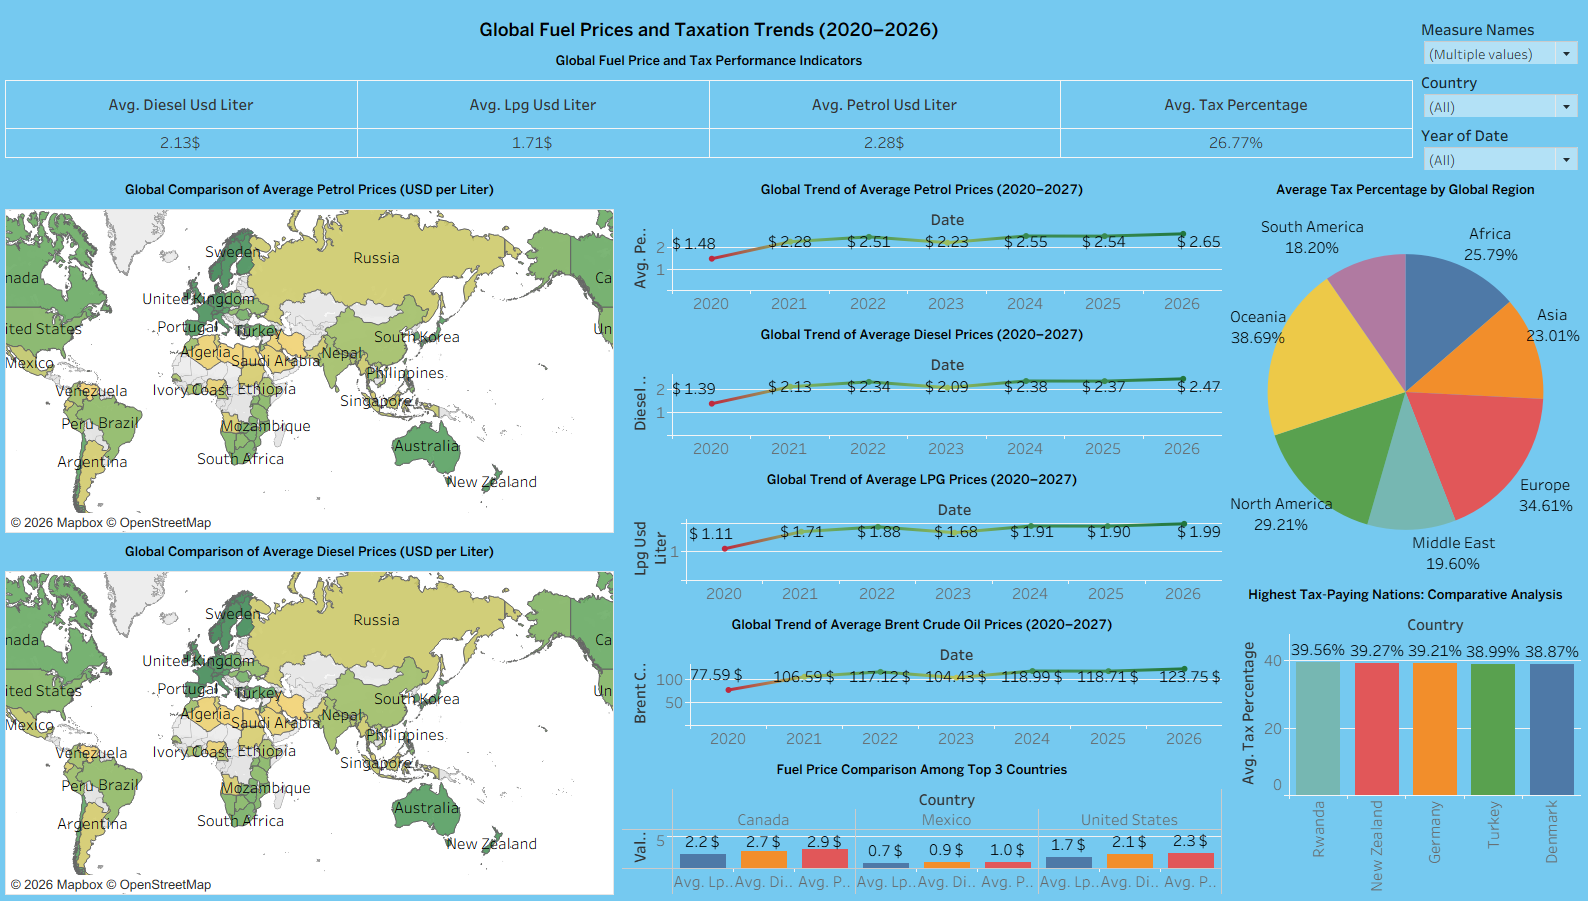

What the dashboard file says about the page in this screenshot:
{"tool":"tableau","page":{"name":"Global Fuel Dashboard","canvas":[1600,900],"ordinal":1},"visuals":[{"type":"text","box":[7.9,7.9,1416.2,30]},{"type":"filter","title":"KPI Indicators","param":"[federated.1v4kxpw04uno6u108y8fu1nb7g7z].[:Measure Names]","box":[1424.1,7.9,168,53]},{"type":"worksheet","title":"KPI Indicators","mark":"Automatic","box":[7.9,37.9,1416.2,117]},{"type":"filter","title":"Petrol Map","param":"[federated.1v4kxpw04uno6u108y8fu1nb7g7z].[none:country:nk]","box":[1424.1,60.9,168,53]},{"type":"filter","title":"Petrol Trend","param":"[federated.1v4kxpw04uno6u108y8fu1nb7g7z].[yr:date:ok]","box":[1424.1,113.9,168,53]},{"type":"worksheet","title":"Petrol Map","mark":"Multipolygon","box":[7.9,166.9,617.3,362.6]},{"type":"worksheet","title":"Petrol Trend","mark":"Line","rows":["petrol_usd_liter"],"cols":["date"],"box":[625.1,166.9,608,145]},{"type":"worksheet","title":"Tax by Region","mark":"Pie","box":[1233.1,166.9,359,405]},{"type":"worksheet","title":"Diesel Trend","mark":"Line","rows":["diesel_usd_liter"],"cols":["date"],"box":[625.1,311.9,608,145]},{"type":"worksheet","title":"LPG Trend","mark":"Line","rows":["lpg_usd_liter"],"cols":["date"],"box":[625.1,457,608,145]},{"type":"worksheet","title":"Diesel Map","mark":"Multipolygon","box":[7.9,529.5,617.3,362.6]},{"type":"worksheet","title":"Top 5 Tax Nations","mark":"Bar","rows":["tax_percentage"],"cols":["country"],"box":[1233.1,571.9,359,320.2]},{"type":"worksheet","title":"Brent Crude Trend","mark":"Line","rows":["brent_crude_usd"],"cols":["date"],"box":[625.1,602,608,145]},{"type":"worksheet","title":"Top 3 Fuel Comparison","mark":"Bar","cols":["country"],"box":[625.1,747.1,608,145]}]}

Visuals, with their boxes in screenshot pixels (x1, y1, x2, y2), scaled from the page's 1600x900 canvas onto the 1588x901 screenshot:
text: box=[8, 8, 1413, 38]
"KPI Indicators" filter: box=[1413, 8, 1580, 61]
"KPI Indicators" worksheet: box=[8, 38, 1413, 155]
"Petrol Map" filter: box=[1413, 61, 1580, 114]
"Petrol Trend" filter: box=[1413, 114, 1580, 167]
"Petrol Map" worksheet (Multipolygon marks): box=[8, 167, 621, 530]
"Petrol Trend" worksheet (Line marks): box=[620, 167, 1224, 312]
"Tax by Region" worksheet (Pie marks): box=[1224, 167, 1580, 573]
"Diesel Trend" worksheet (Line marks): box=[620, 312, 1224, 457]
"LPG Trend" worksheet (Line marks): box=[620, 458, 1224, 603]
"Diesel Map" worksheet (Multipolygon marks): box=[8, 530, 621, 893]
"Top 5 Tax Nations" worksheet (Bar marks): box=[1224, 573, 1580, 893]
"Brent Crude Trend" worksheet (Line marks): box=[620, 603, 1224, 748]
"Top 3 Fuel Comparison" worksheet (Bar marks): box=[620, 748, 1224, 893]
